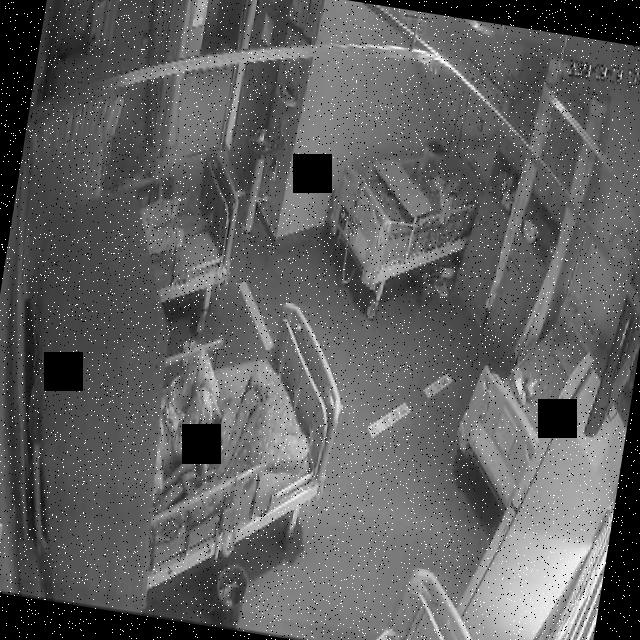bed: (136, 293, 350, 582), (323, 120, 488, 292), (462, 286, 596, 480), (128, 138, 249, 304)
lie: (146, 344, 232, 505), (136, 181, 218, 261)
patient: (152, 342, 232, 468), (136, 180, 217, 262), (420, 158, 468, 218)
